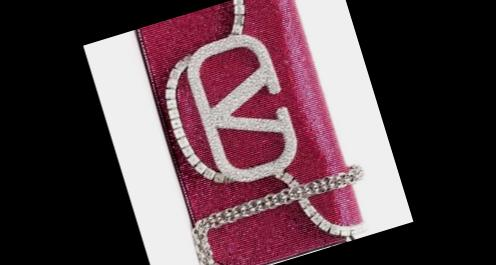VALENTINO: (180, 25, 304, 189)
